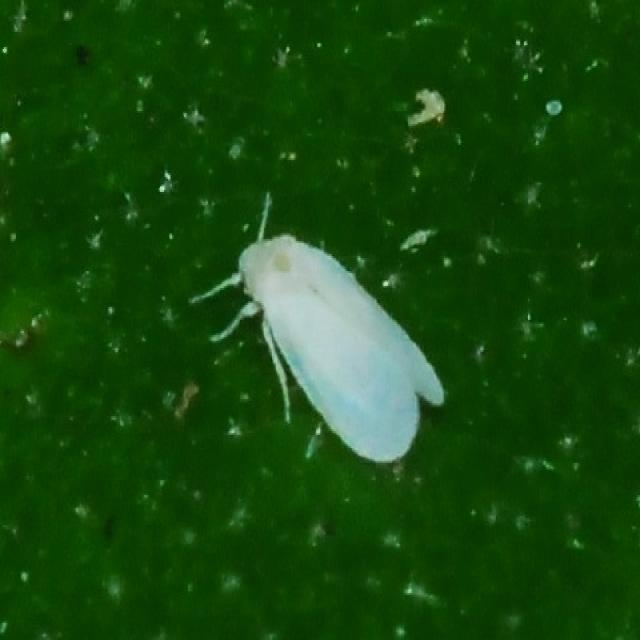Whitefly: (192, 185, 450, 469)
